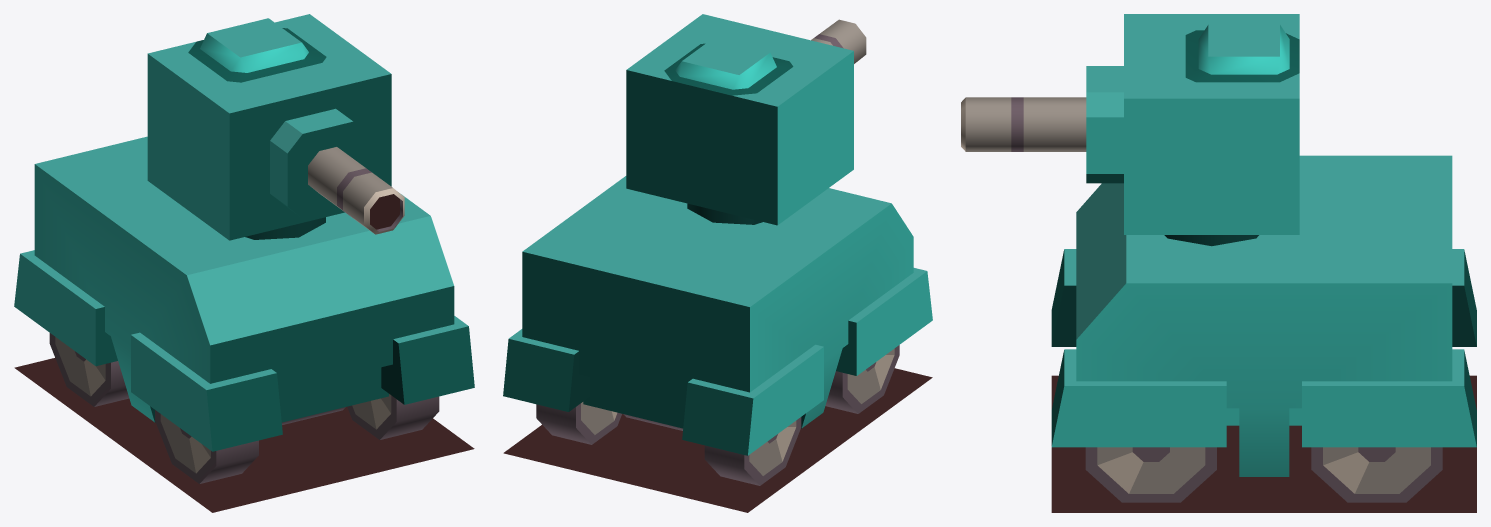
File: ReconMesh.TealGalaxy.glb
3 views of the same model, side by side, from view 1: azimuth 30°, elevation 25°; view 2: azimuth 150°, elevation 25°; view 3: azimuth 270°, elevation 25° (orthographic). The views are drawn at different scales.
Parts seen in each view (by area): view 1: ReconMesh.TealGalaxy; view 2: ReconMesh.TealGalaxy; view 3: ReconMesh.TealGalaxy.
Boxes of the visible parts, bbox=[...] form: ReconMesh.TealGalaxy: bbox=[14, 14, 474, 512]; ReconMesh.TealGalaxy: bbox=[503, 14, 932, 512]; ReconMesh.TealGalaxy: bbox=[961, 14, 1476, 512].
Bounding box in the file's own units: 1.29 × 1.79 × 2.06.
1 material, 1 textured.
